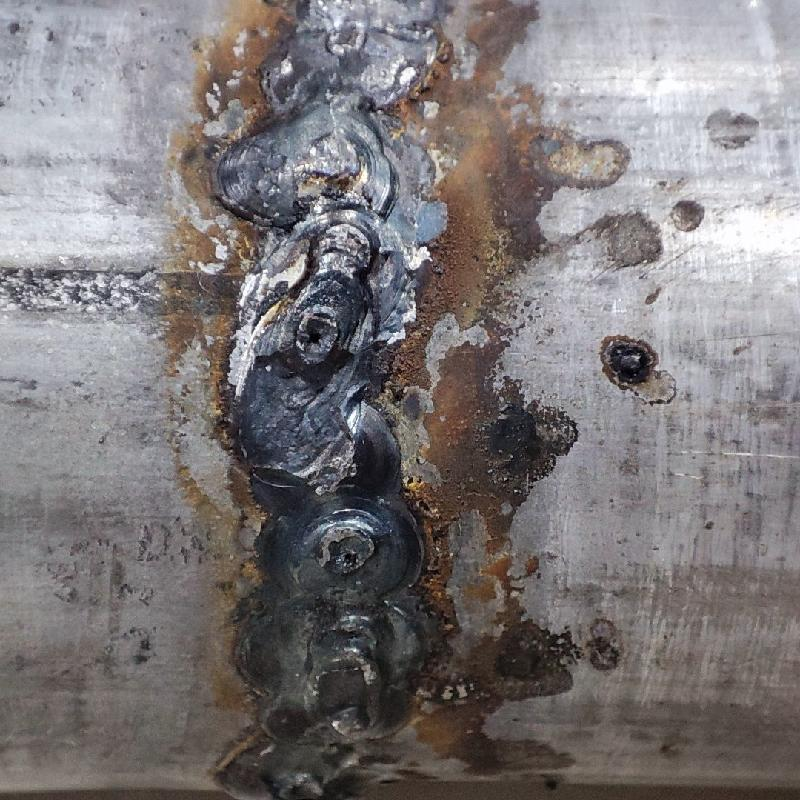Surface_pores: (314, 525, 370, 574), (294, 315, 346, 364)
wrong_size: (241, 0, 426, 789)
